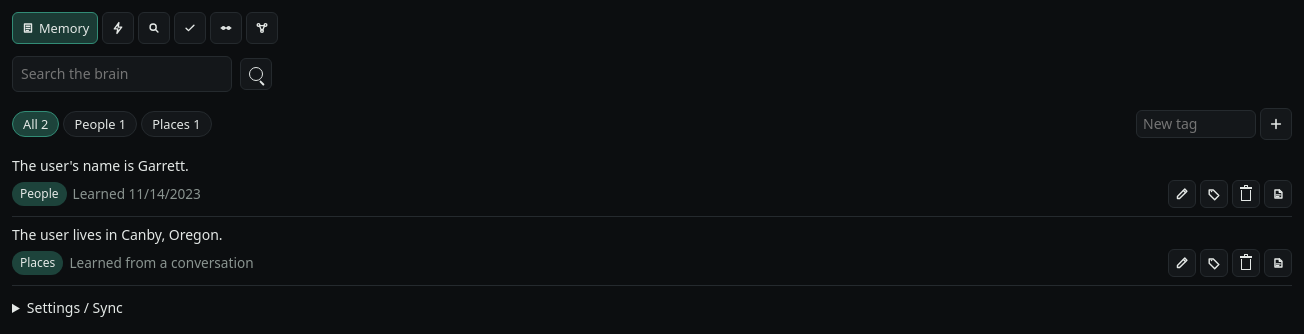
Test case: BrainMapView › shows conversations and the facts that came from them
Expected: the text "The user's name is Garrett." is shown, 12,156 -> 189,175
Click the tab named "Timeline": [226, 28] box 210,12 -> 242,44
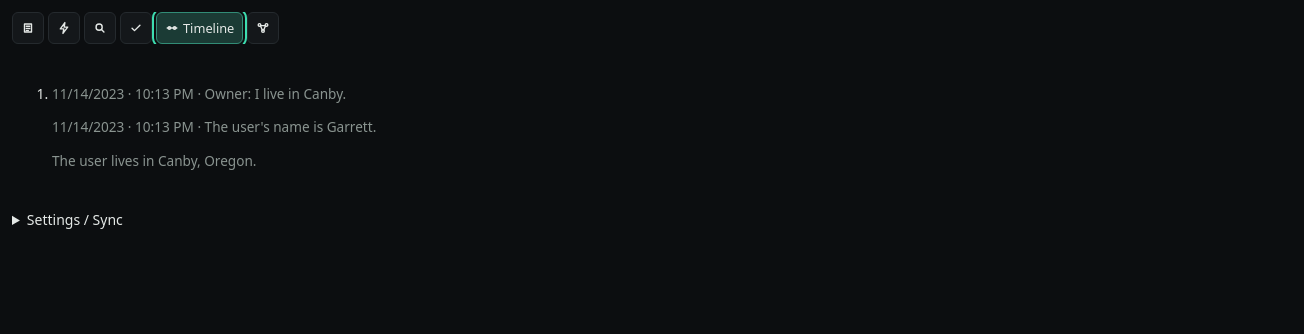
Expected: the text "The user's name is Garrett." is shown, 205,117 -> 376,136
Expected: the text "Owner: I live in Canby." is shown, 205,84 -> 346,103
